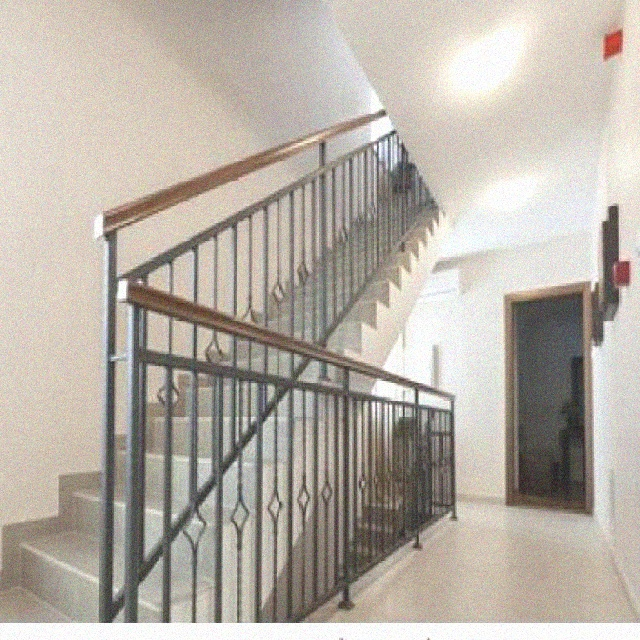stair: (1, 60, 457, 623)
